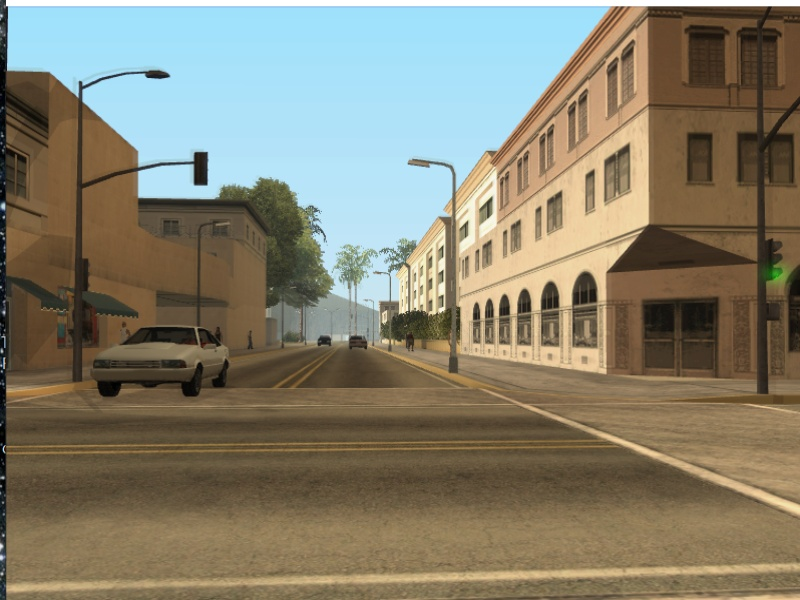person: (111, 325, 130, 341), (406, 330, 417, 353), (245, 330, 256, 352)
pole: (753, 27, 778, 398), (448, 166, 466, 376), (75, 88, 87, 386), (194, 222, 207, 326), (387, 272, 394, 355)
vehicle: (89, 323, 234, 395), (347, 336, 367, 350), (316, 336, 331, 347)
